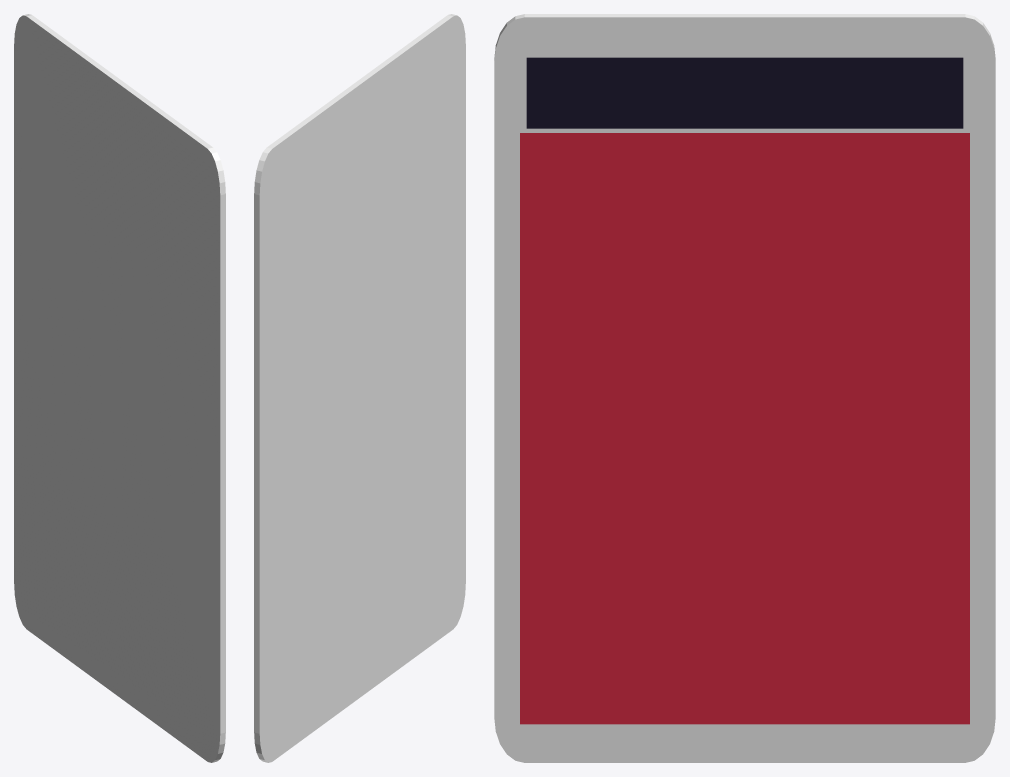
The model's file is PokeCard.glb.
3 renders of one model, left to right at view 1: azimuth 30°, elevation 25°; view 2: azimuth 150°, elevation 25°; view 3: azimuth 270°, elevation 25°, orthographic. The views are drawn at different scales.
Parts seen in each view (by area): view 1: Card; view 2: Card; view 3: Card.
Part boxes in pixels (x1,y1,x2,y2): Card: [14, 14, 225, 762]; Card: [254, 14, 465, 762]; Card: [494, 14, 995, 762].
Size of the model in its own units: 0.0549 by 3.04 by 1.85.
